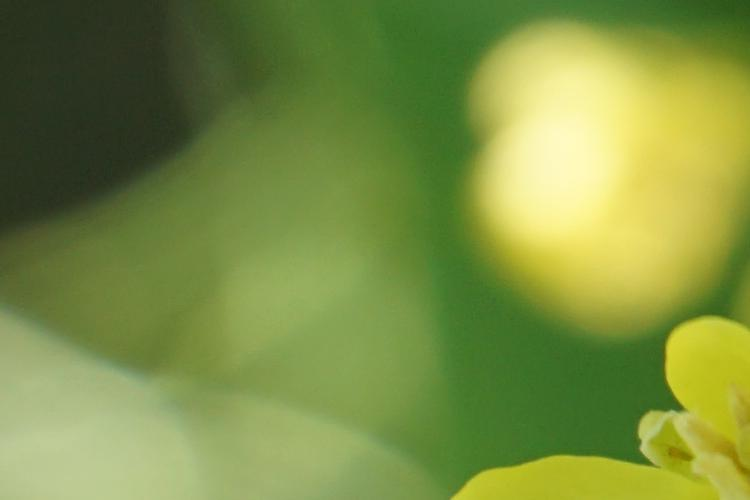yellow: (475, 26, 750, 330), (402, 302, 749, 500)
